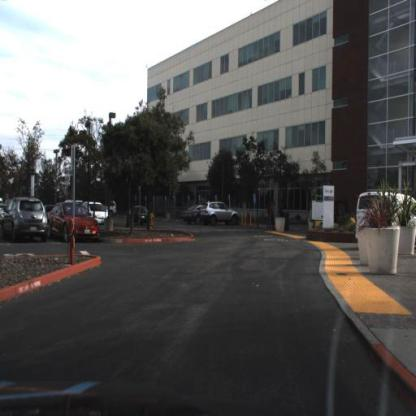car: (355, 191, 416, 259), (48, 200, 101, 245), (2, 198, 49, 244), (199, 201, 241, 228), (130, 203, 155, 228), (182, 201, 204, 227), (87, 200, 107, 227)
pedestrian: (265, 199, 273, 234), (278, 197, 285, 222), (272, 197, 277, 231)
